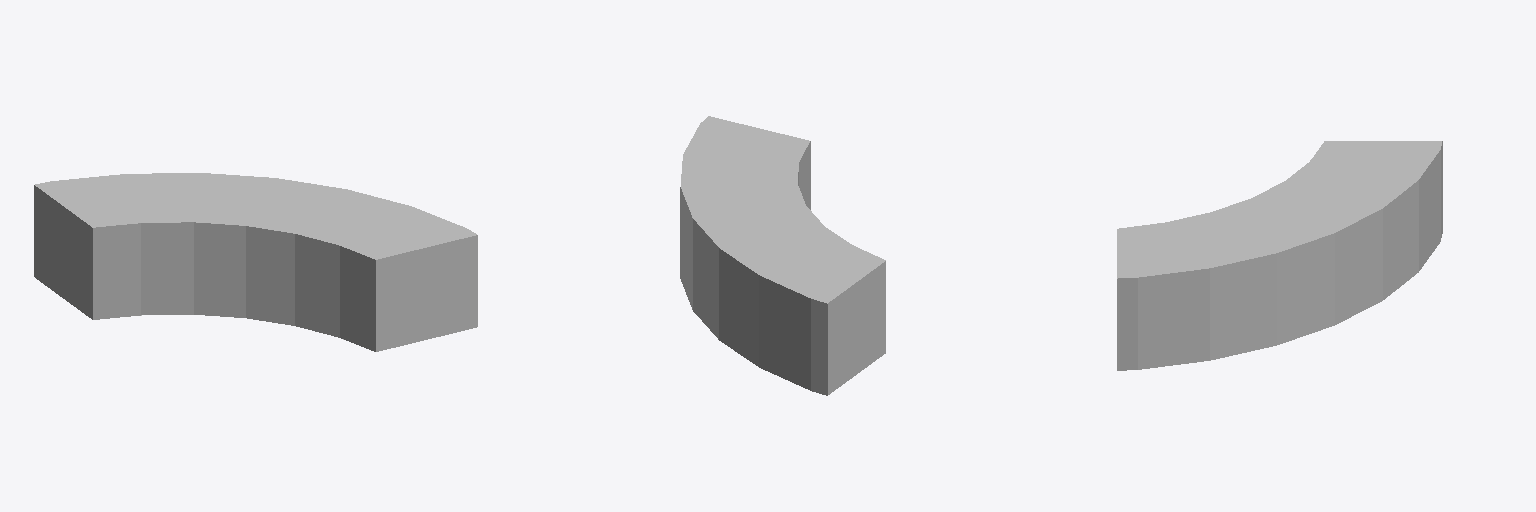
Rendered from csharp.obj.
The picture shows the model from 3 angles: view 1: azimuth 30°, elevation 25°; view 2: azimuth 150°, elevation 25°; view 3: azimuth 270°, elevation 25°; orthographic projection.
Parts seen in each view (by area): view 1: Cylinder.005_Cylinder.007; view 2: Cylinder.005_Cylinder.007; view 3: Cylinder.005_Cylinder.007.
Part boxes in pixels (bbox=[...]): Cylinder.005_Cylinder.007: bbox=[34, 173, 477, 351]; Cylinder.005_Cylinder.007: bbox=[680, 116, 885, 395]; Cylinder.005_Cylinder.007: bbox=[1117, 141, 1442, 370].
Size of the model in its own units: 1.08 by 0.3401 by 1.08.